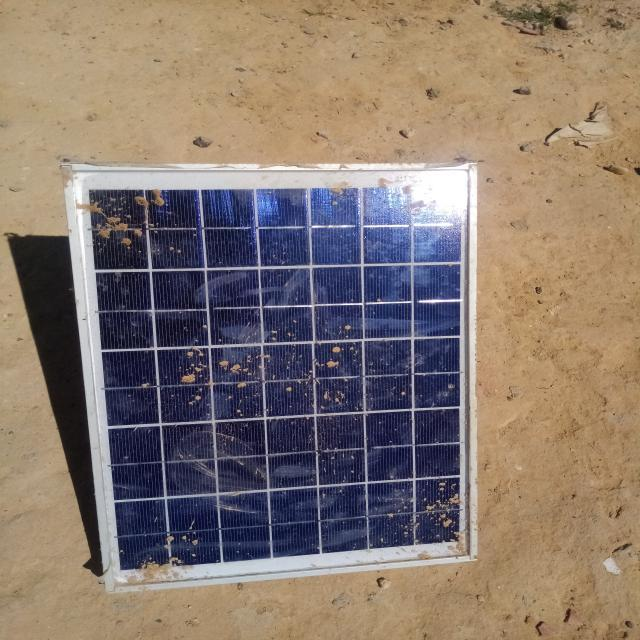faulty: (68, 168, 478, 586)
